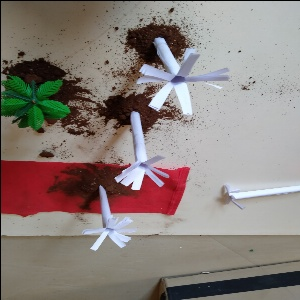plant: (1, 67, 78, 134)
weed: (135, 36, 212, 137), (110, 119, 183, 201), (73, 185, 140, 261), (214, 174, 300, 212)
